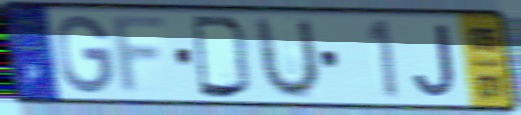1: (366, 17, 402, 103)
D: (188, 13, 255, 102)
F: (109, 13, 173, 99)
G: (54, 13, 116, 97)
J: (411, 22, 460, 100)
U: (254, 14, 324, 102)
